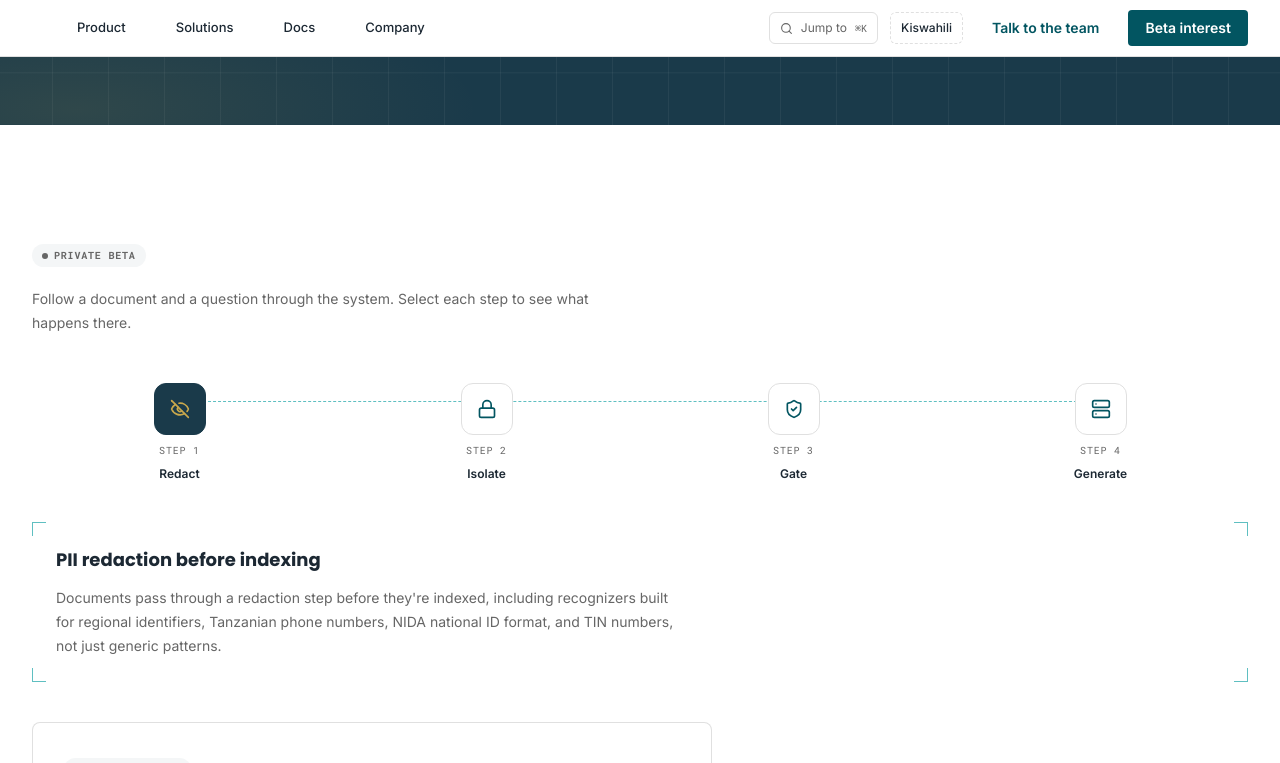
Test: Security page data path › walks the four practices in data-flow order
(page scrolled)
Expected: the heading "PII redaction before indexing" is shown, [56,547,321,572]
Click the tab with test id "security-practice-self-hosted-inference".
click(1100, 433)  # box [953,375,1248,490]
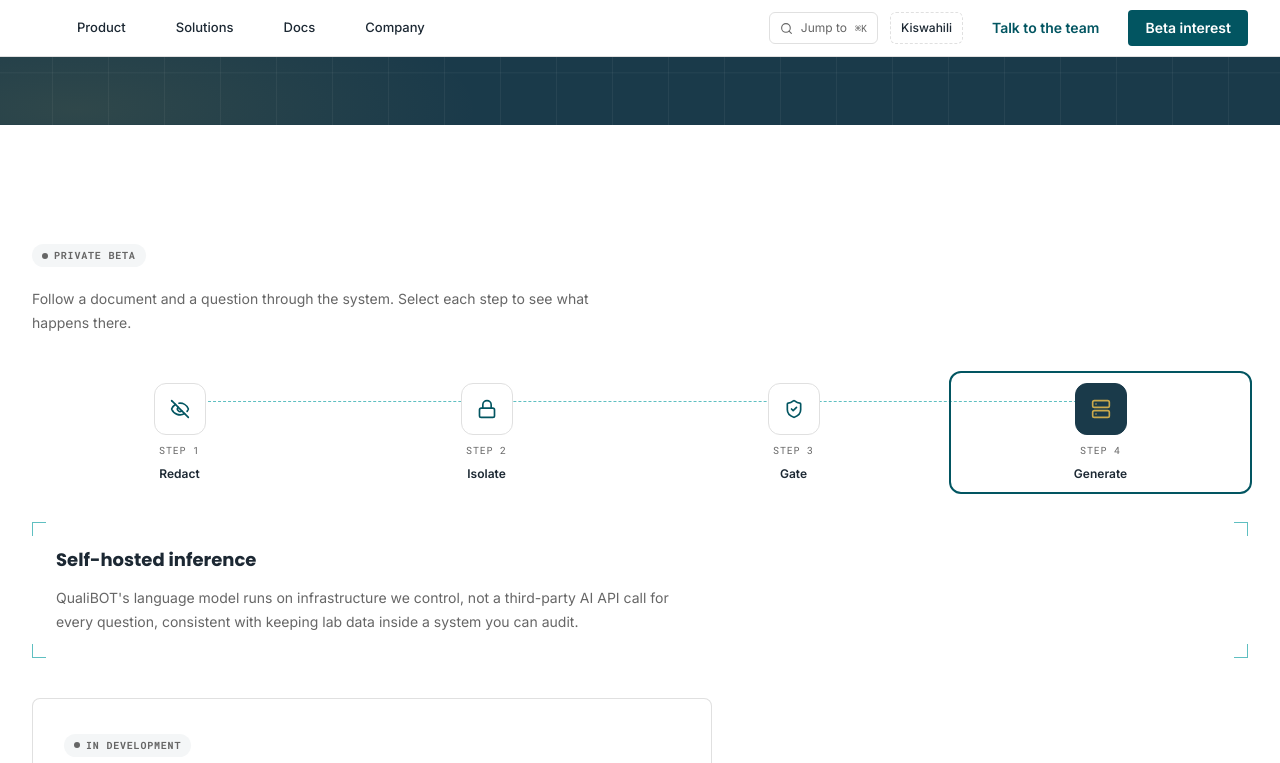
Expected: the heading "Self-hosted inference" is shown, [56,547,256,572]
